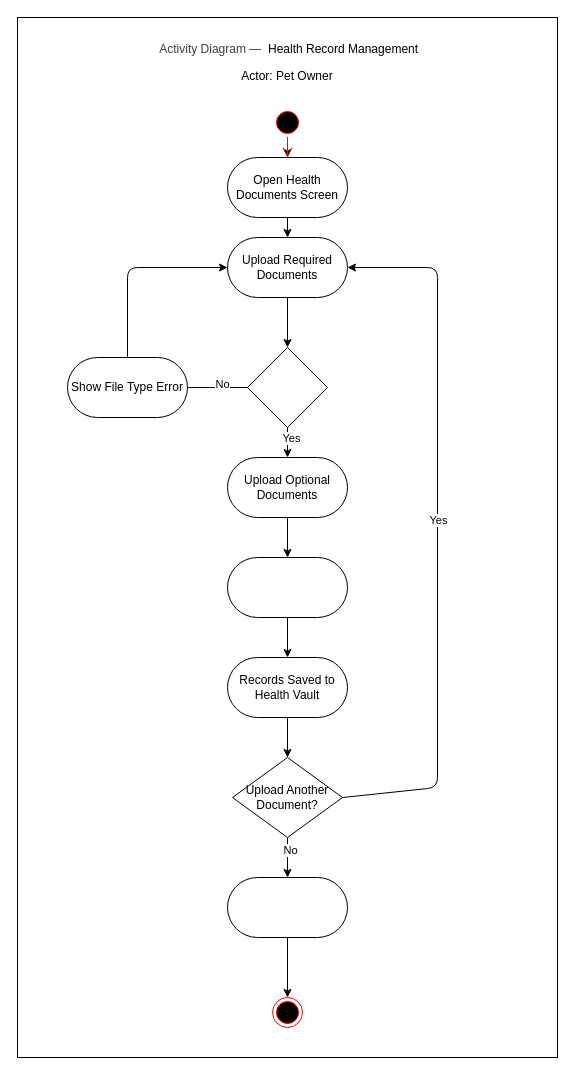
Some shapes in this 575 by 1075 pixel diagram are drawn without their labels. The shapes that lost their labels are listed below. From the top down, each one's centre as x and y in pixels, then its label:
the point at 287,387: File Type Valid?
the point at 287,587: Encrypt & Upload Files to Vault
the point at 287,907: Health Vault Management Complete
